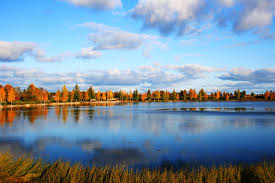lake: (7, 104, 275, 168)
sky: (2, 3, 273, 93)
